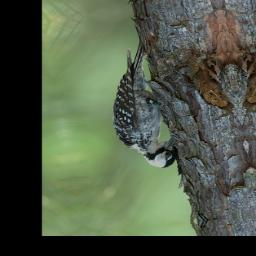Woodpecker: (96, 39, 180, 174)
